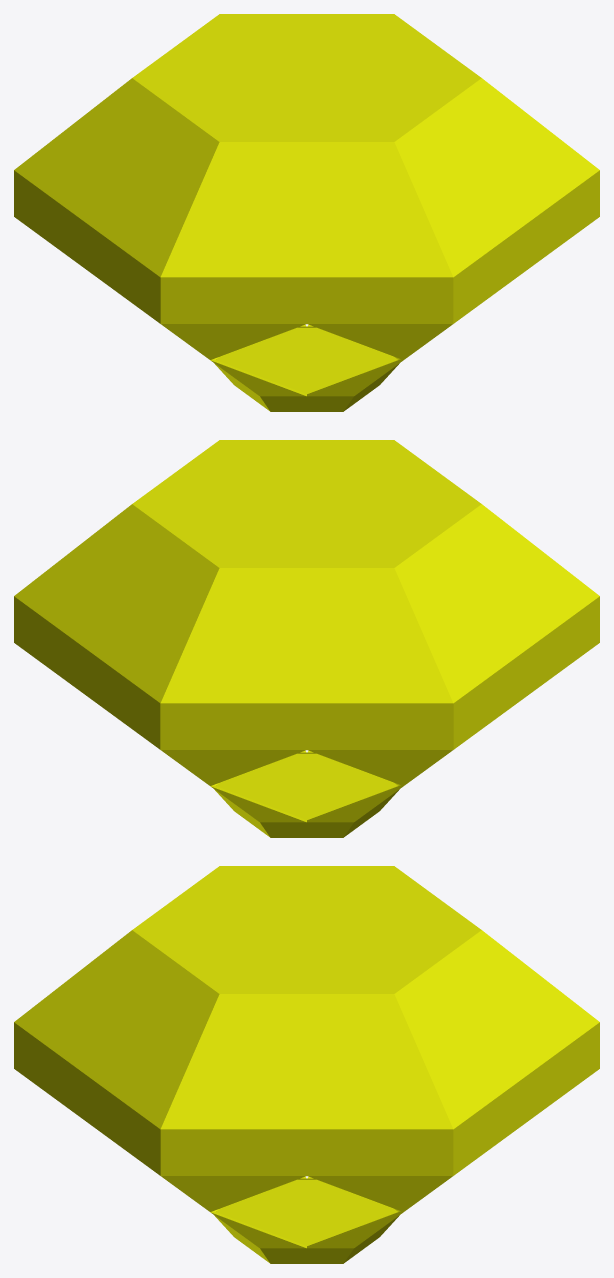
The model's file is 5Ratchet.fbx.
The picture shows the model from 3 angles, top to bottom: view 1: azimuth 30°, elevation 25°; view 2: azimuth 150°, elevation 25°; view 3: azimuth 270°, elevation 25°; orthographic projection.
Parts seen in each view (by area): view 1: 5Ratchet; view 2: 5Ratchet; view 3: 5Ratchet.
Boxes of the visible parts, box(x1,y1,x2,y2) form: 5Ratchet: box(14, 14, 599, 411); 5Ratchet: box(14, 440, 599, 837); 5Ratchet: box(14, 866, 599, 1263).
Bounding box in the file's own units: 197 × 132 × 228.
